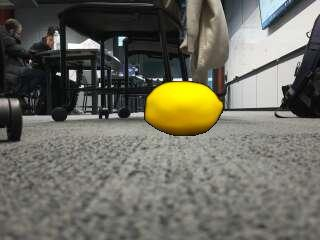lemon: (145, 82, 221, 136)
